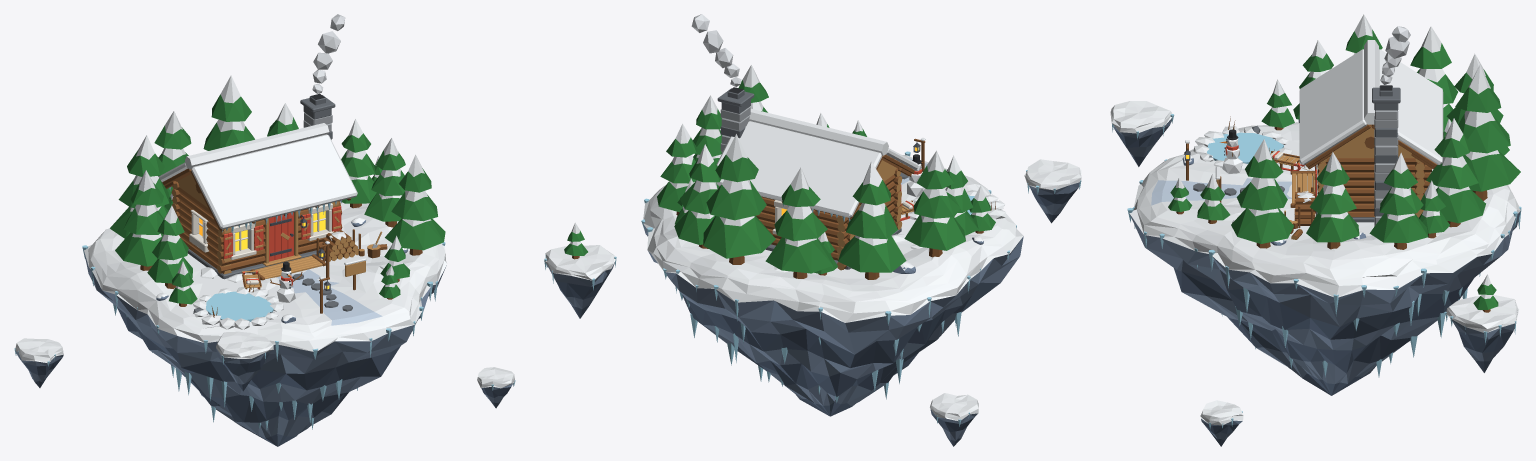
The model's file is frost-cabin-island.glb.
3 views of the same model, side by side, from view 1: azimuth 30°, elevation 25°; view 2: azimuth 150°, elevation 25°; view 3: azimuth 270°, elevation 25° (orthographic). The views are drawn at different scales.
Parts seen in each view (by area): view 1: Island_Ground, Pines, Cabin_Roof, Cabin_Trim, Cabin_Walls, Pond, FloatingRock_3, Island_Icicles, FloatingRock_2, Path_Props, Woodpile, Door (+4 smaller); view 2: Island_Ground, Pines, Cabin_Roof, FloatingRock_1, FloatingRock_3, Cabin_Walls, Island_Icicles, FloatingRock_2, Chimney, ChimneySmoke, Pond; view 3: Island_Ground, Pines, Cabin_Roof, FloatingRock_1, Chimney, FloatingRock_3, Cabin_Walls, Pond, Island_Icicles, FloatingRock_4, ChimneySmoke, Woodpile (+4 smaller).
Part boxes in pixels (bbox=[...]): Island_Ground: bbox=[84, 201, 446, 446]; Pines: bbox=[110, 75, 445, 306]; Cabin_Roof: bbox=[158, 123, 357, 234]; Cabin_Trim: bbox=[188, 203, 333, 280]; Cabin_Walls: bbox=[171, 181, 342, 274]; Pond: bbox=[192, 279, 283, 329]; FloatingRock_3: bbox=[216, 331, 273, 391]; Island_Icicles: bbox=[82, 242, 445, 430]; FloatingRock_2: bbox=[14, 338, 63, 387]; Path_Props: bbox=[292, 241, 366, 313]; Woodpile: bbox=[316, 229, 387, 261]; Door: bbox=[269, 212, 293, 261]; Island_Ground: bbox=[643, 155, 1023, 416]; Pines: bbox=[657, 65, 995, 279]; Cabin_Roof: bbox=[716, 108, 918, 221]; FloatingRock_1: bbox=[544, 222, 616, 318]; FloatingRock_3: bbox=[1024, 159, 1081, 223]; Cabin_Walls: bbox=[756, 168, 902, 270]; Island_Icicles: bbox=[641, 151, 1016, 402]; FloatingRock_2: bbox=[930, 393, 978, 446]; Chimney: bbox=[717, 87, 754, 153]; ChimneySmoke: bbox=[691, 14, 741, 86]; Pond: bbox=[908, 190, 1005, 220]; Island_Ground: bbox=[1129, 122, 1520, 395]; Pines: bbox=[1168, 14, 1520, 249]; Cabin_Roof: bbox=[1299, 40, 1443, 169]; FloatingRock_1: bbox=[1445, 274, 1518, 372]; Chimney: bbox=[1372, 85, 1400, 226]; FloatingRock_3: bbox=[1110, 101, 1174, 166]; Cabin_Walls: bbox=[1317, 158, 1431, 217]; Pond: bbox=[1193, 116, 1292, 170]; Island_Icicles: bbox=[1127, 159, 1521, 377]; FloatingRock_4: bbox=[1200, 400, 1243, 446]; ChimneySmoke: bbox=[1380, 26, 1410, 84]; Woodpile: bbox=[1284, 187, 1315, 239].
Size of the model in its own units: 67.06 by 61.64 by 54.8.
